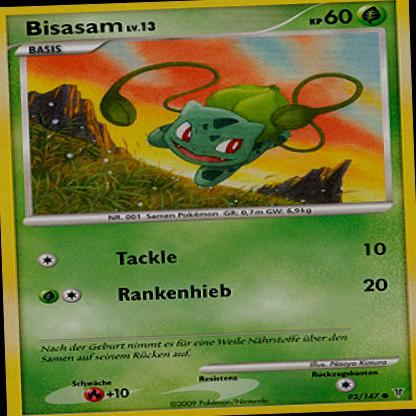Bulbasaur: (96, 49, 374, 204)
